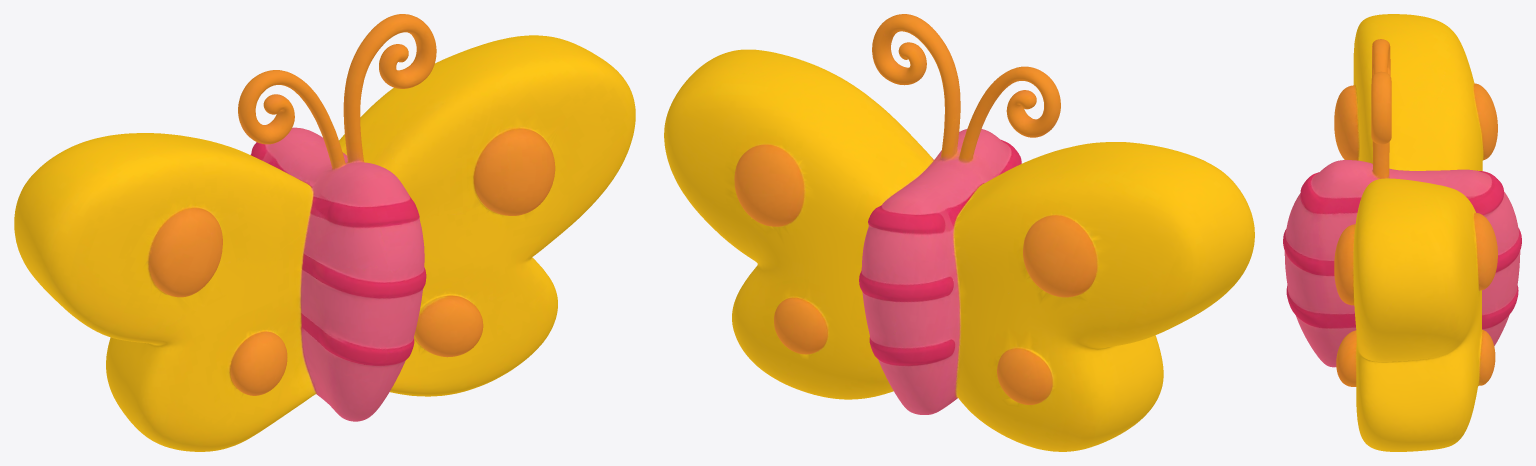
File: Farfalla.glb
3 renders of one model, left to right at view 1: azimuth 30°, elevation 25°; view 2: azimuth 150°, elevation 25°; view 3: azimuth 270°, elevation 25°, orthographic. The views are drawn at different scales.
Size of the model in its own units: 1.9 by 1.2 by 0.7608.
1 material, 1 textured.
